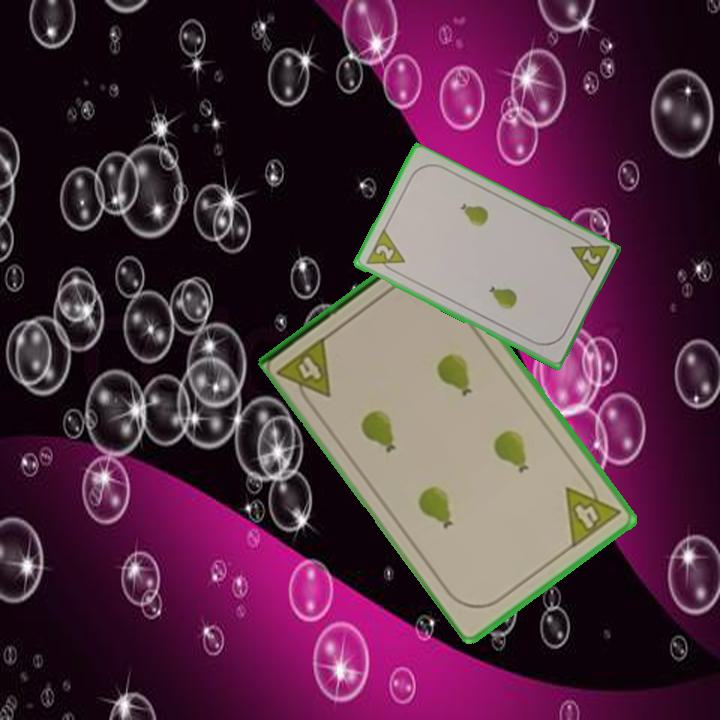2p: (566, 233, 611, 286), (362, 226, 408, 277)
4p: (561, 471, 624, 551), (275, 332, 335, 411)
